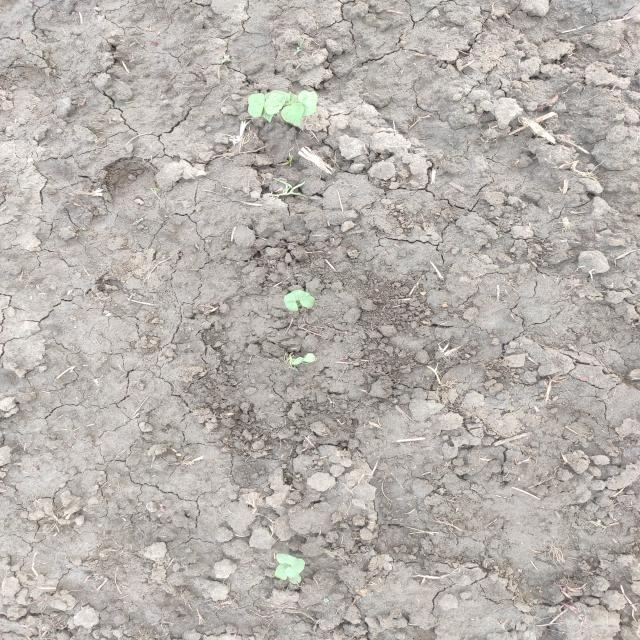seedling: (281, 103, 304, 126), (298, 90, 318, 116), (263, 93, 286, 114), (291, 290, 315, 308), (248, 93, 265, 118), (285, 558, 306, 578), (264, 90, 290, 101), (283, 293, 298, 312), (275, 563, 291, 580), (276, 553, 298, 565), (285, 91, 299, 105), (301, 353, 316, 364), (289, 574, 302, 584), (292, 357, 305, 365)
